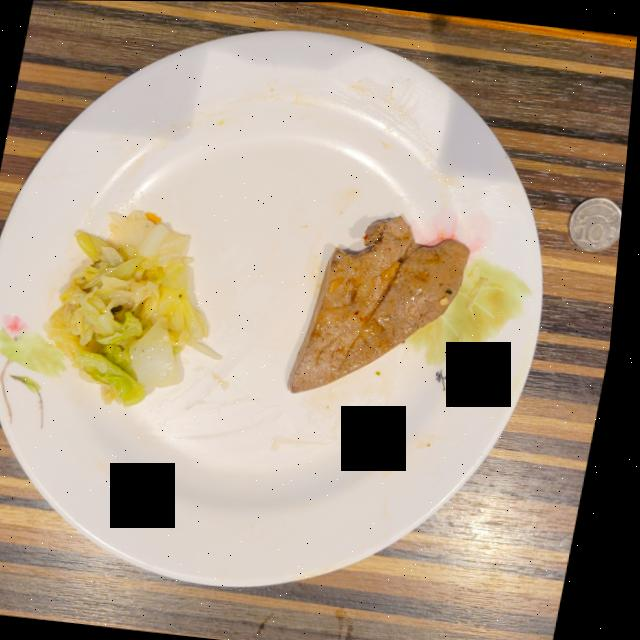cabbage: (49, 211, 222, 406)
coin: (571, 196, 625, 250)
pig liver: (294, 216, 473, 392)
